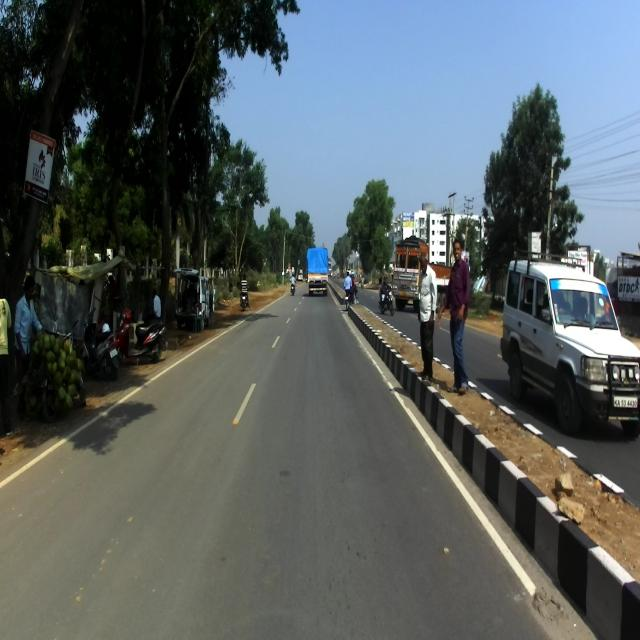car: (500, 247, 640, 439)
scooter: (80, 306, 120, 380), (114, 309, 165, 367)
truck: (307, 243, 328, 296)
